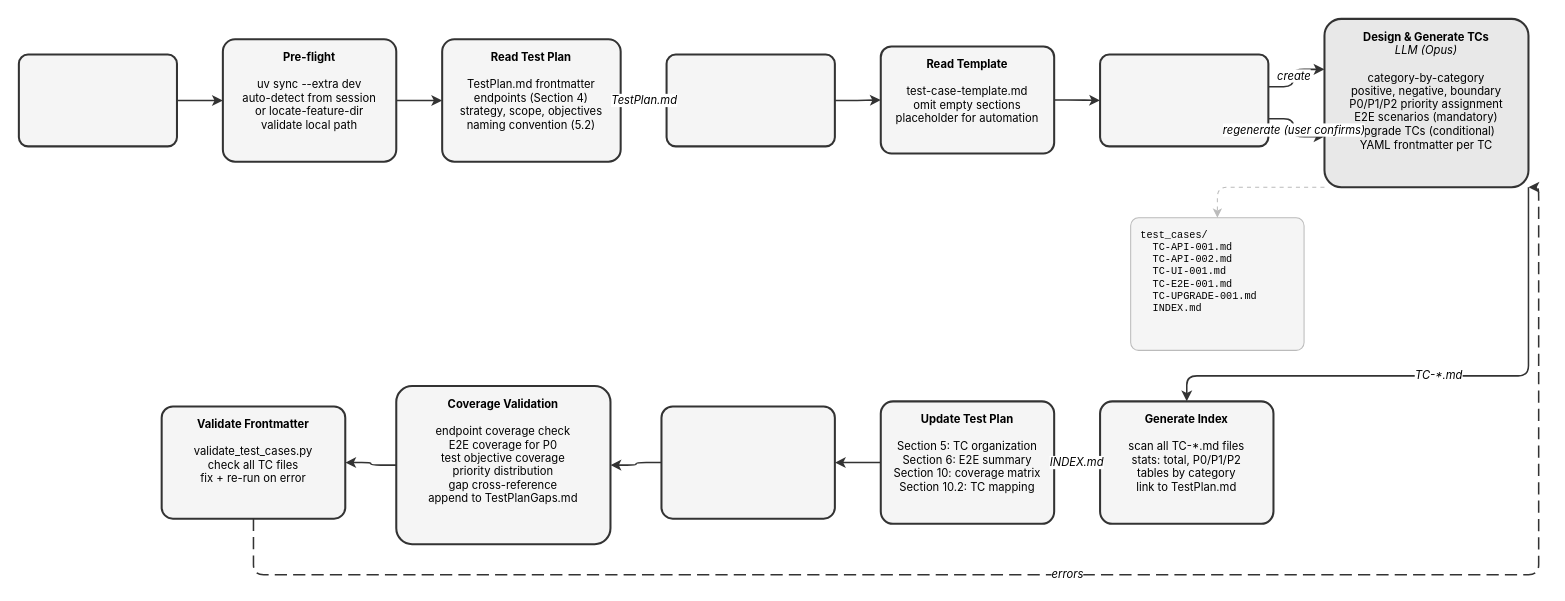
Some shapes in this 1565 by 601 pixel diagram are drawn without their labels. The centre of each missing label's shape, as x and y in pixels:
/test-plan-create-cases FEATURE_SOURCE (dir, branch, PR) --output-dir PATH: the point at 97,100
Detect Regen Mode tc_regeneration.py check count existing TC files: the point at 1184,100
Read Gaps TestPlanGaps.md (if exists) skip pending areas: the point at 750,100
Update README add Test Cases section link to INDEX.md count + priority breakdown: the point at 747,462
